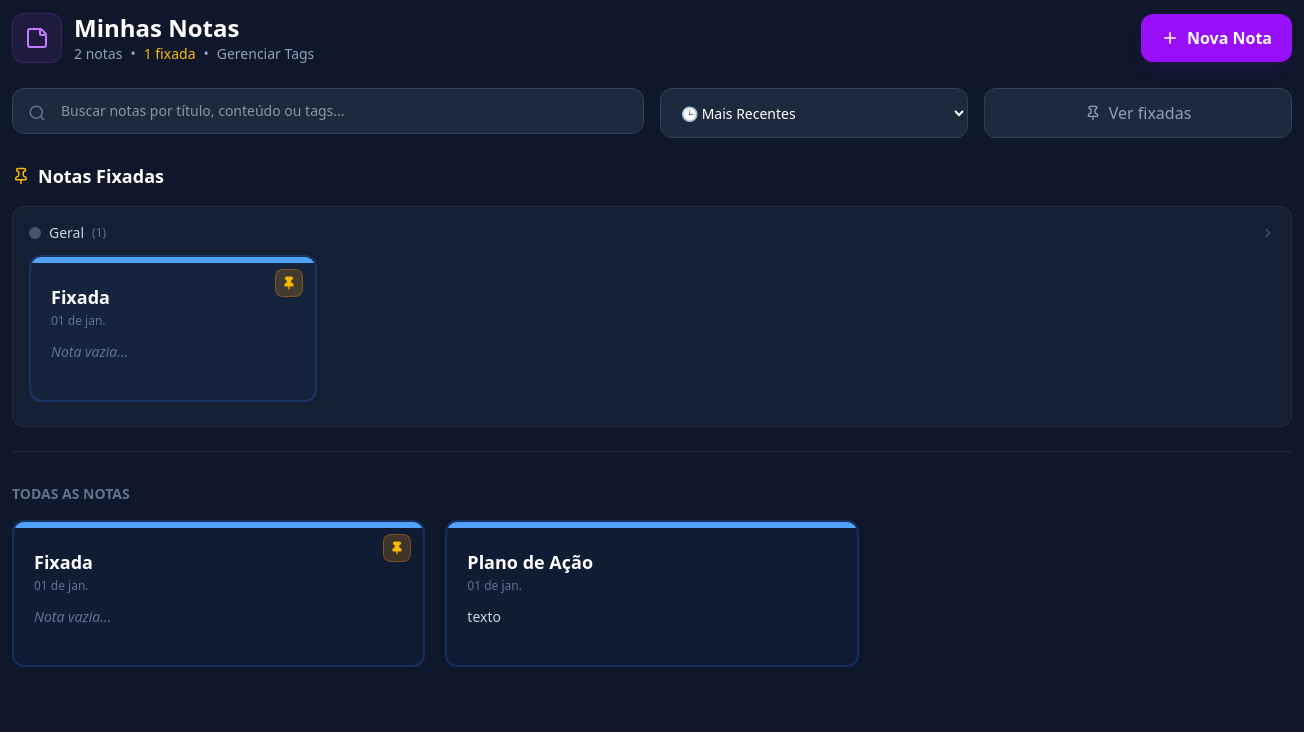
it: NotesTab › turns off the "pinned only" filter when no pinned notes remain
Step 1. Click the button "Ver fixadas" → x=1138, y=113, box [984,88,1292,138]
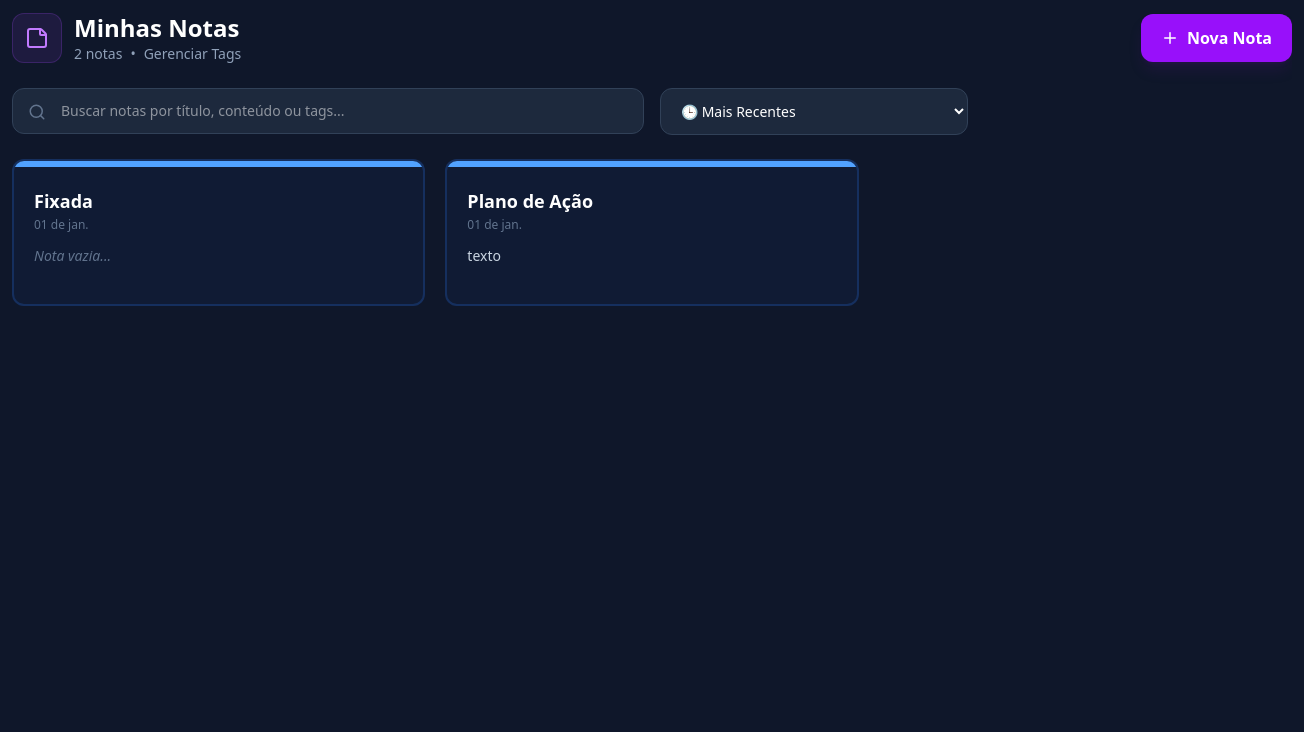
expect the heading "Plano de Ação" is shown: met, box [467,189,593,213]
expect the button "fixadas" is gone: met
